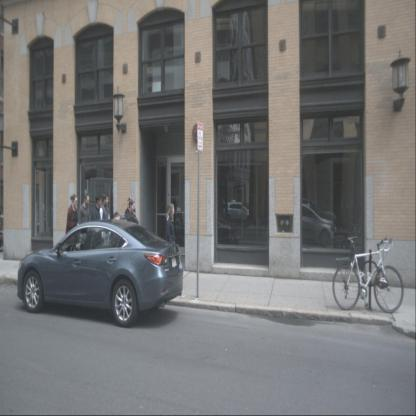human-pedestrian-adult: (112, 211, 134, 284), (124, 198, 140, 286), (66, 194, 80, 284), (78, 193, 91, 284), (99, 193, 111, 284), (125, 196, 137, 284), (165, 203, 176, 293), (91, 194, 102, 283)
vehicle-bicycle: (332, 236, 404, 313), (322, 224, 358, 266)
vehicle-car: (17, 220, 183, 328), (268, 202, 336, 247), (273, 199, 337, 241), (172, 216, 239, 254), (224, 202, 252, 223)
